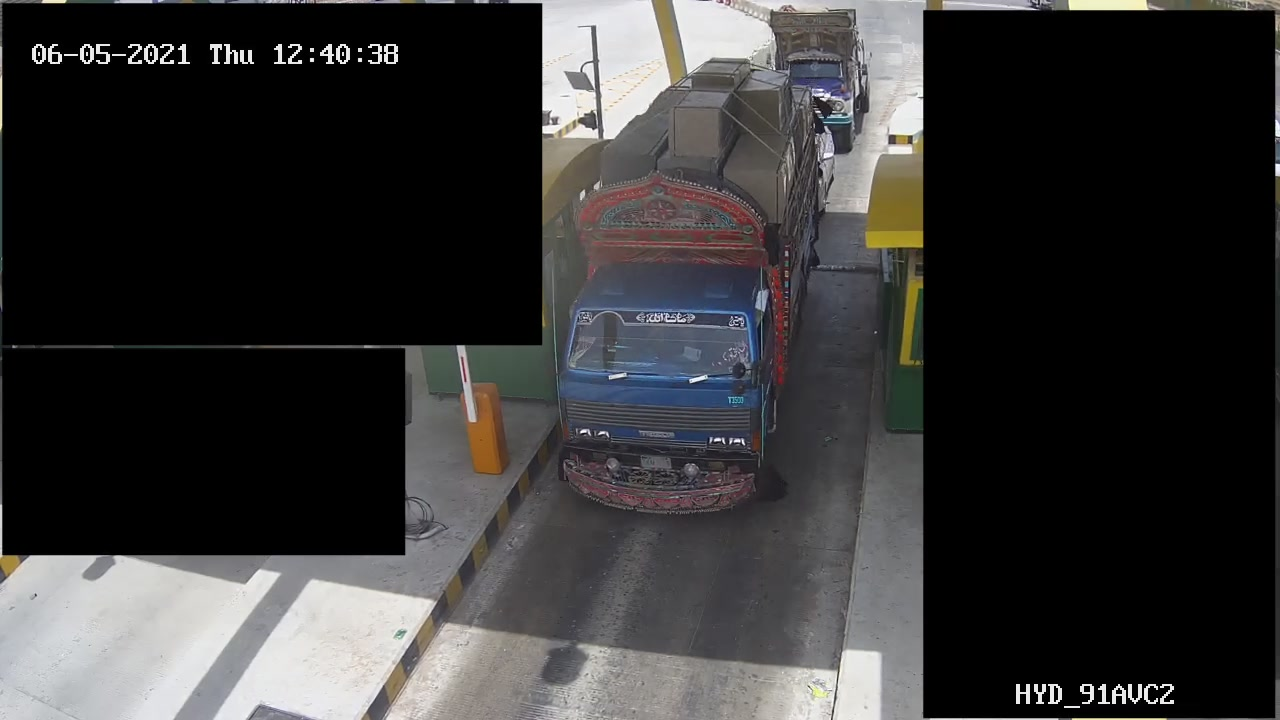F5: (558, 58, 821, 510)
